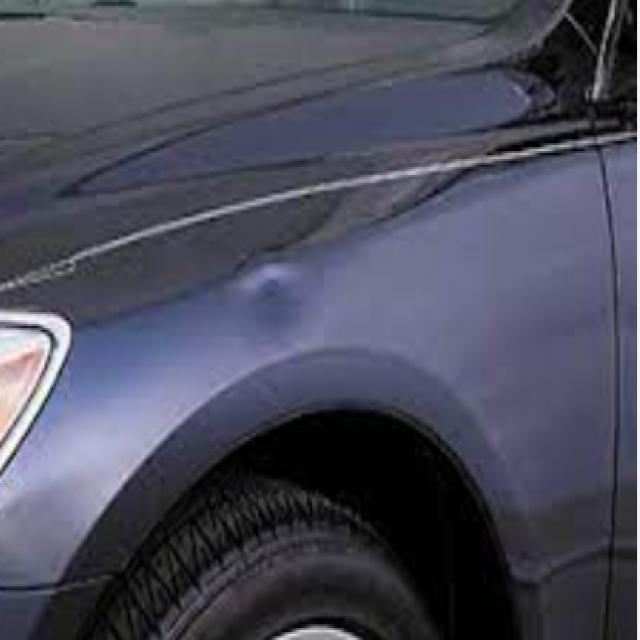dents: (240, 255, 334, 370)
